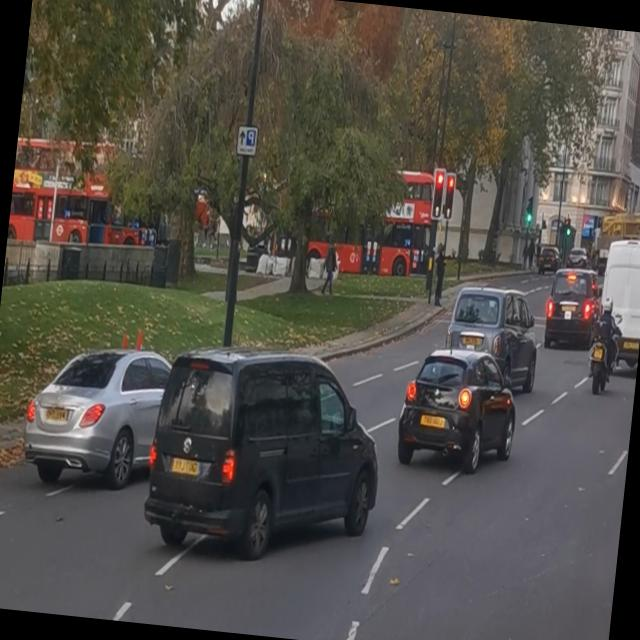Vehicle: (140, 336, 394, 568), (15, 338, 172, 488), (393, 349, 523, 482), (438, 280, 541, 390), (595, 233, 640, 377), (540, 266, 598, 354)
